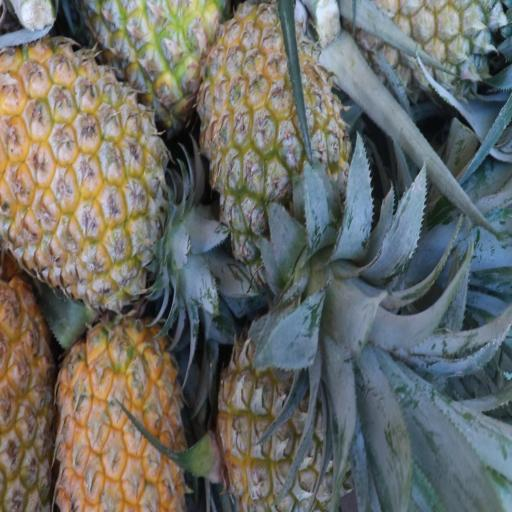------------------------------: (203, 12, 347, 249), (222, 304, 352, 507)
Pineapple - v8 v1: (0, 59, 167, 290), (59, 299, 184, 512), (0, 276, 65, 510), (85, 0, 223, 106)
